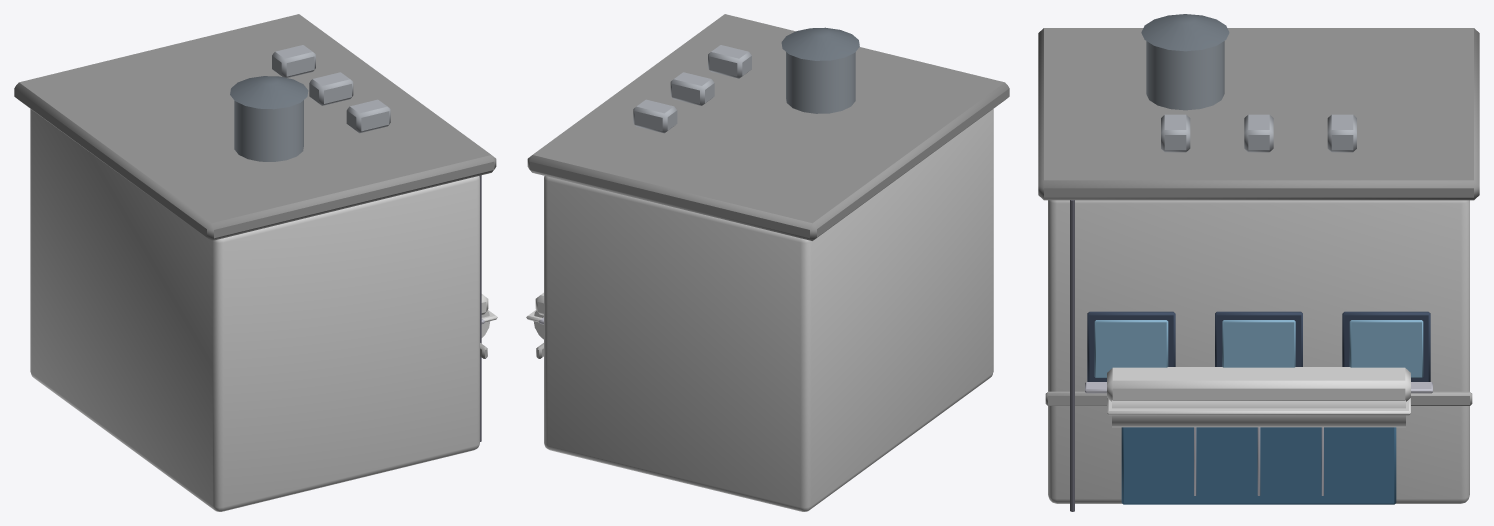
The model's file is bld_0.glb.
3 renders of one model, left to right at view 1: azimuth 30°, elevation 25°; view 2: azimuth 150°, elevation 25°; view 3: azimuth 270°, elevation 25°, orthographic. The views are drawn at different scales.
Visible parts, largest first — view 1: b; view 2: b; view 3: b.
Boxes of the visible parts, box(x1,y1,x2,y2) form: b: box(14, 14, 497, 511); b: box(526, 14, 1009, 511); b: box(1038, 14, 1479, 511).
Size of the model in its own units: 8.4 by 9.1 by 9.
